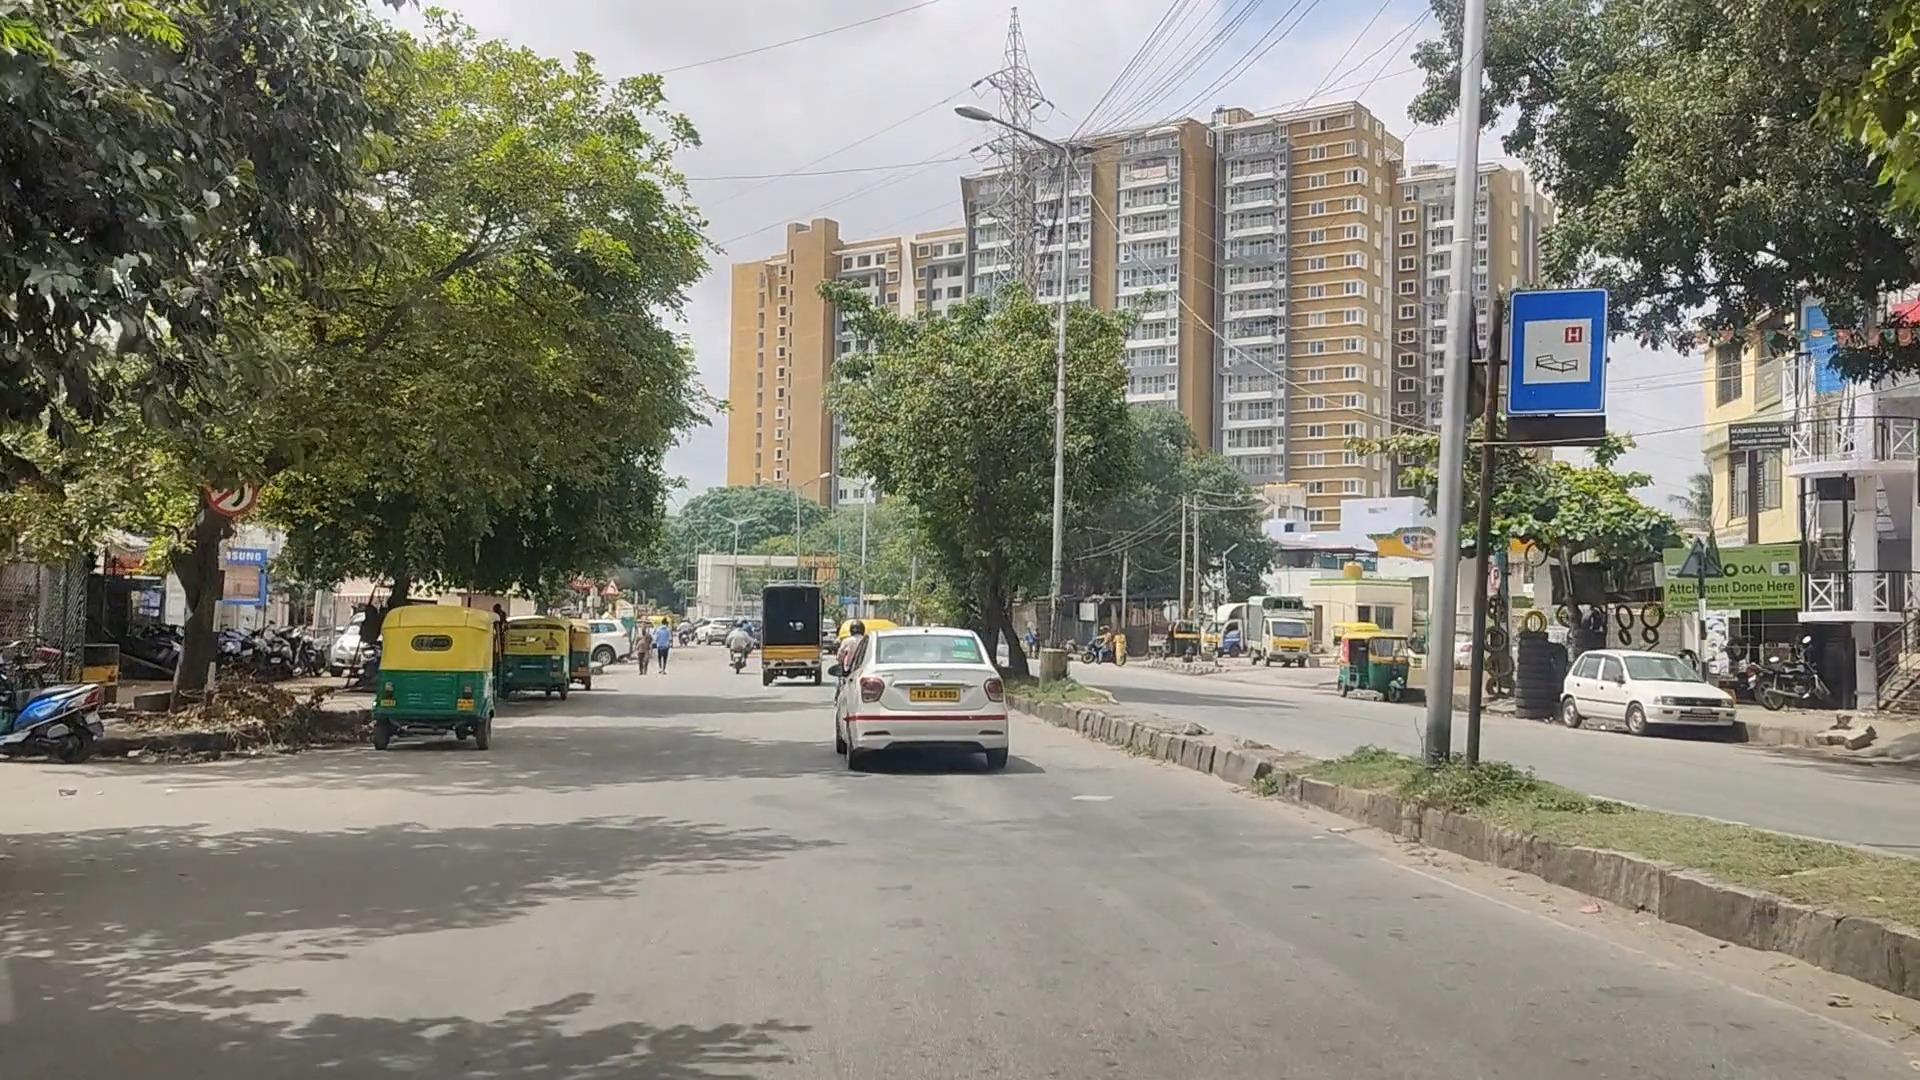LMV: (793, 633, 1014, 778), (367, 600, 496, 748)
